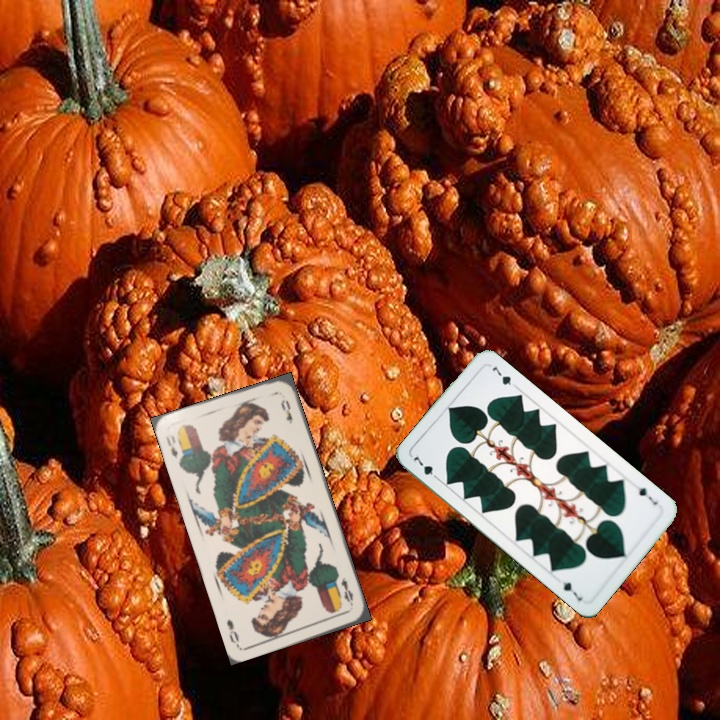EO: (337, 573, 356, 609), (162, 432, 180, 461)
G7: (409, 450, 442, 483), (631, 480, 660, 508)
